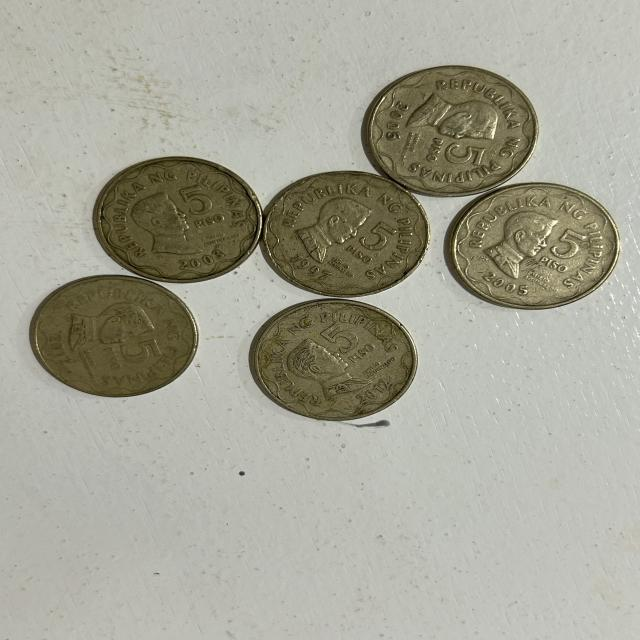5_Old_Front: (307, 318, 377, 366), (532, 223, 585, 284), (169, 184, 231, 235), (346, 219, 406, 266), (420, 135, 490, 172), (95, 336, 167, 370)
